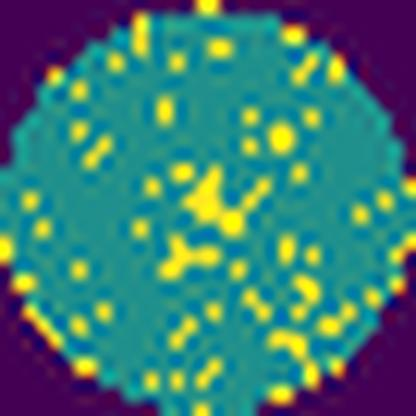Center: (148, 156, 271, 278)
